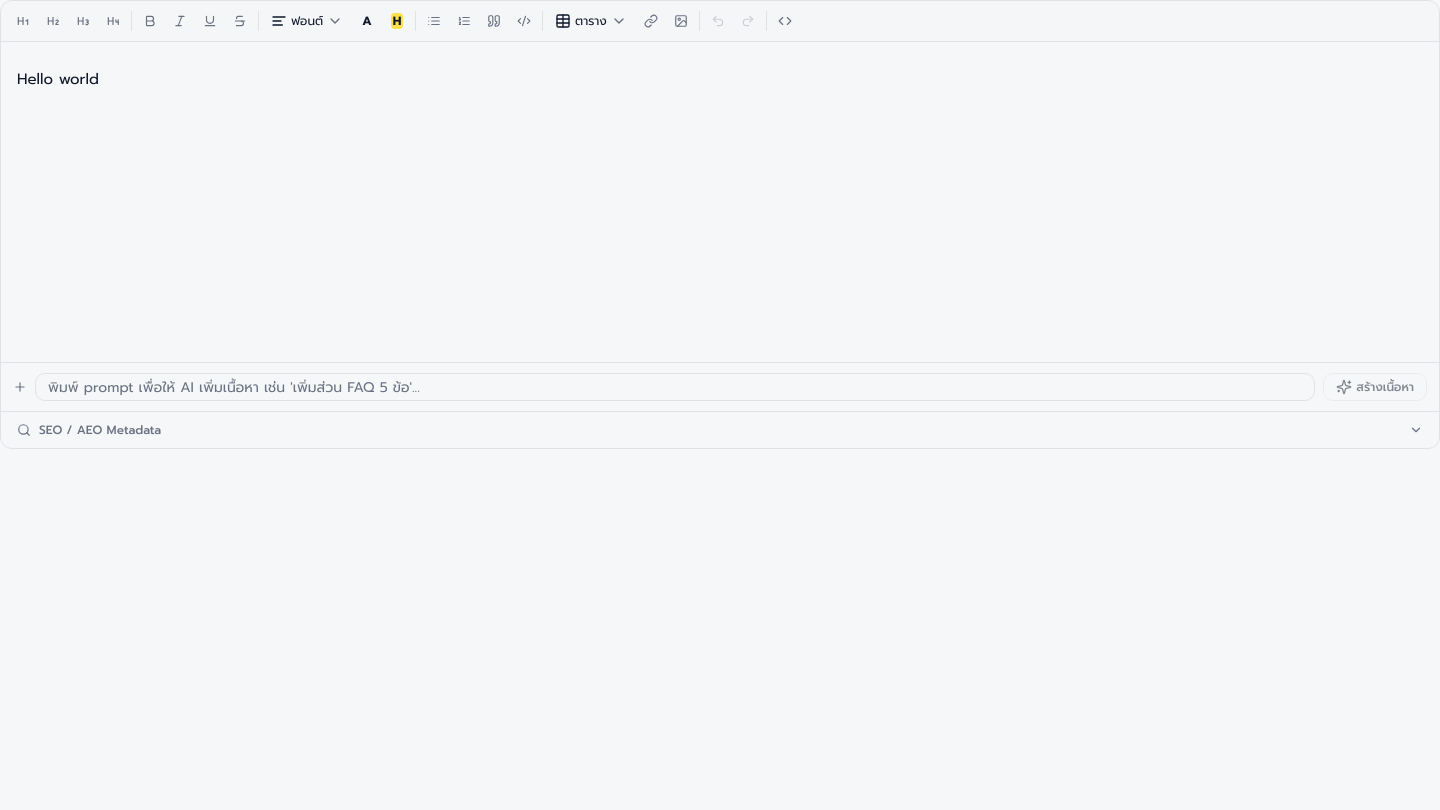
Test: ArticleEditor › toggles SEO panel open
This screenshot has width=1440, height=810.
Expected: the text "SEO / AEO Metadata" is shown, [39,421,161,439]
What coordinates should you click on to do the following:
click the button "SEO / AEO Metadata"
I would click on:
 (100, 430)
Its box is [1,412,1439,448].
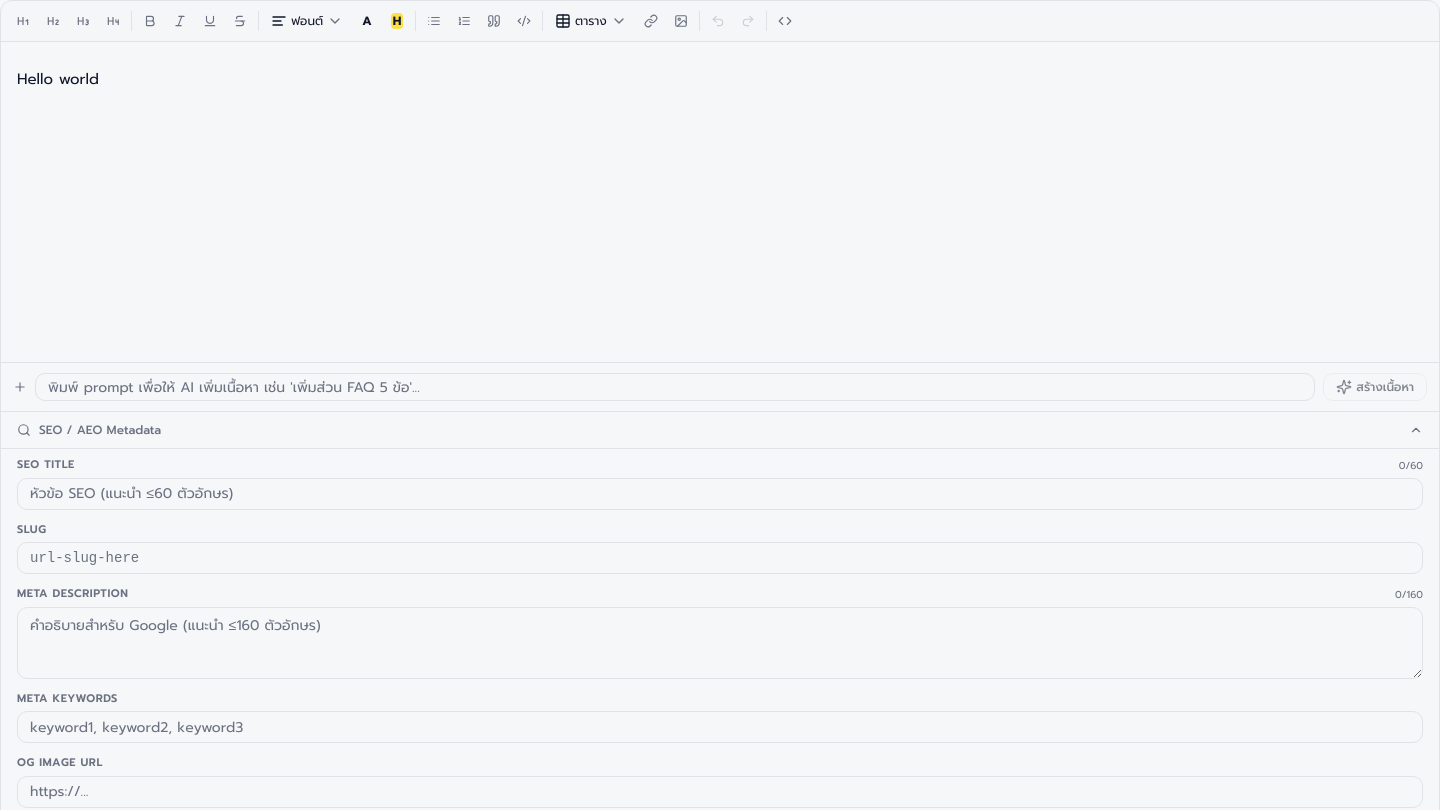
Now the field with placeholder "หัวข้อ SEO (แนะนำ ≤60 ตัวอักษร)" is shown, box [17,478,1423,510]
